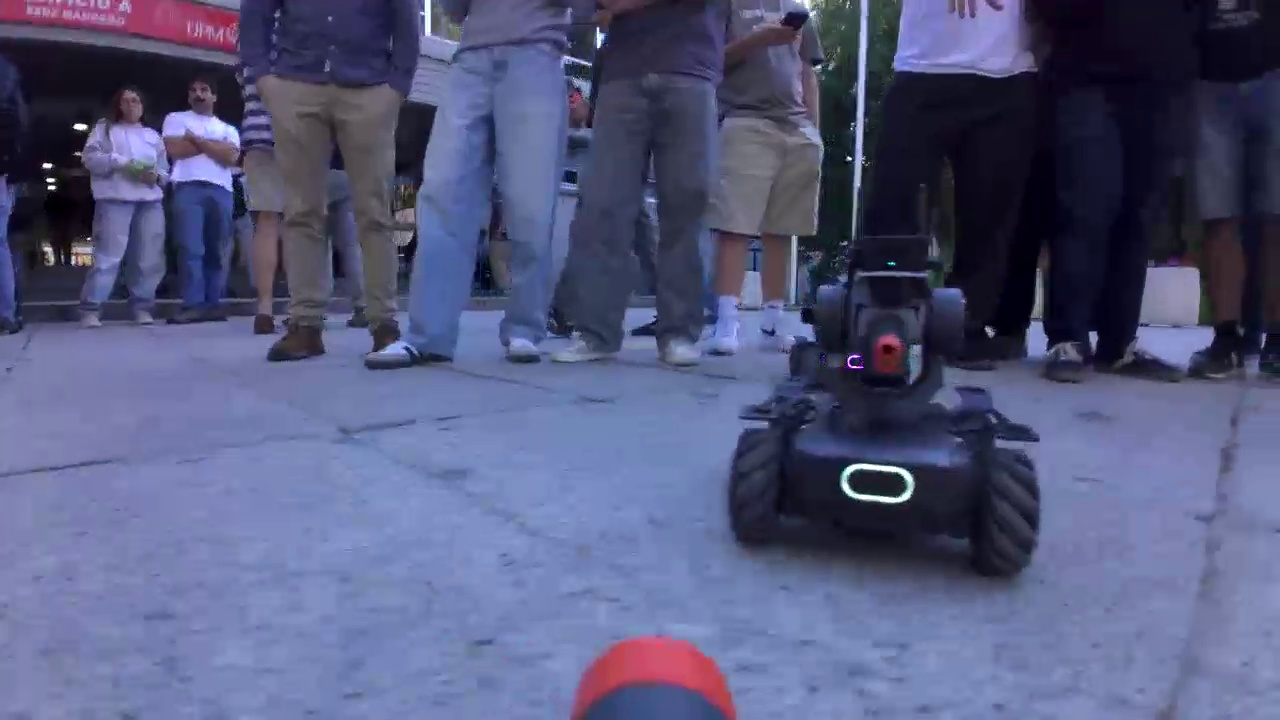robot: (729, 233, 1043, 582)
